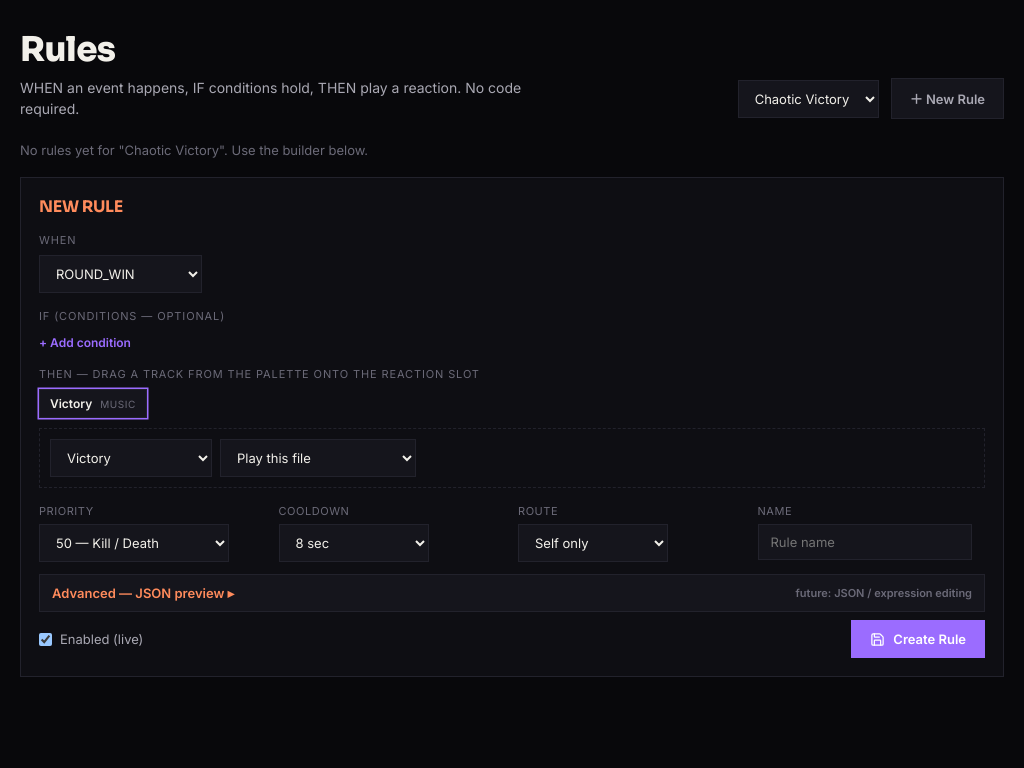
RulesPage visual rule builder › shows a live JSON preview in Advanced mode (§13)
This screenshot has width=1024, height=768.
Click the button "Advanced — JSON preview ▸ future: JSON / expression editing".
click(143, 593)  # box [40,575,984,611]
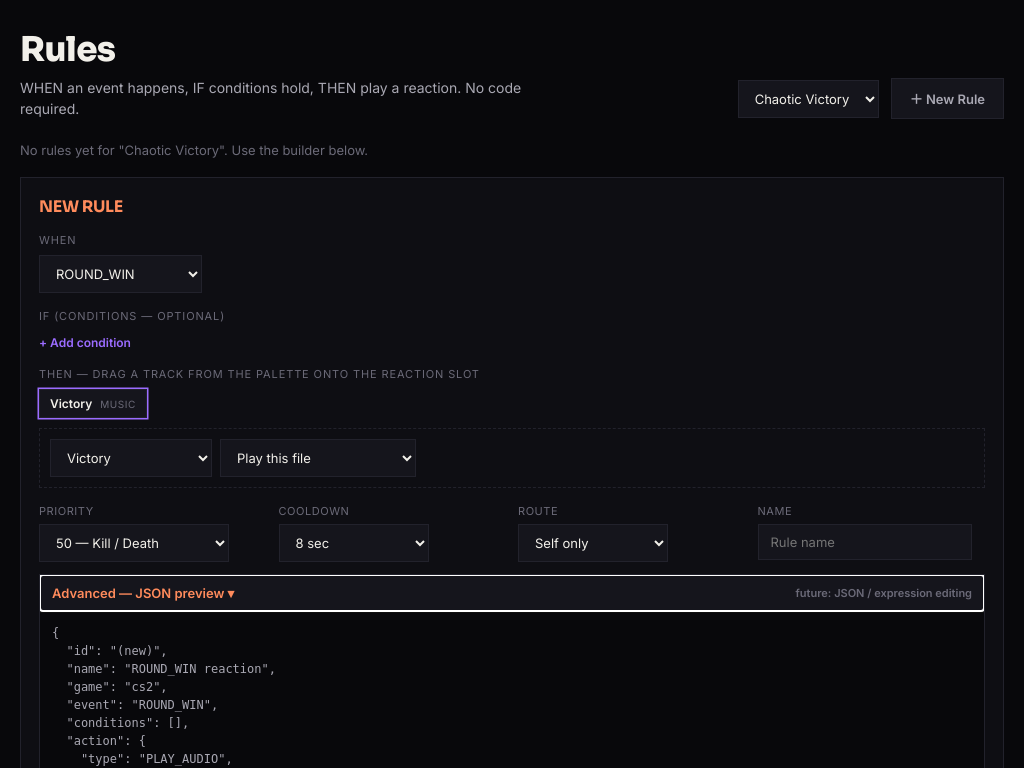
Note: The preview tracks builder edits in real time (event → ROUND_LOSS).
Select "ROUND_LOSS" in the 2nd dropdown at (120, 274), box [39,255,202,293]
(page scrolled)
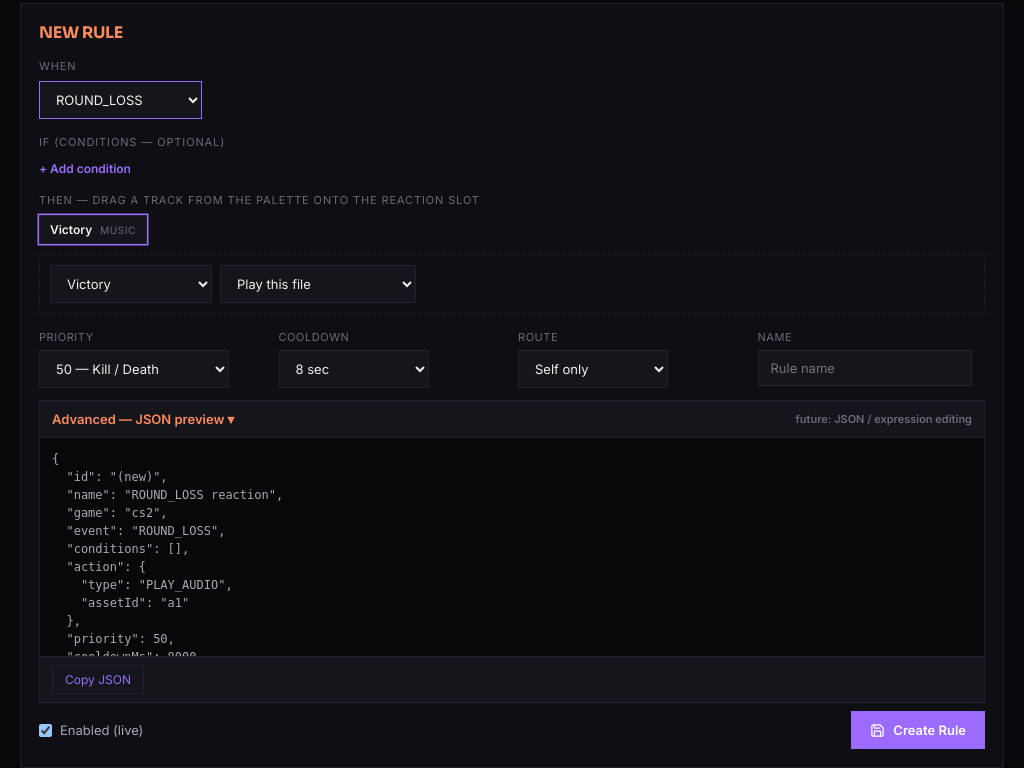
expect the text with test id "rule-json" shows "\"event\": \"ROUND_LOSS\"": met, box [52,452,283,703]
